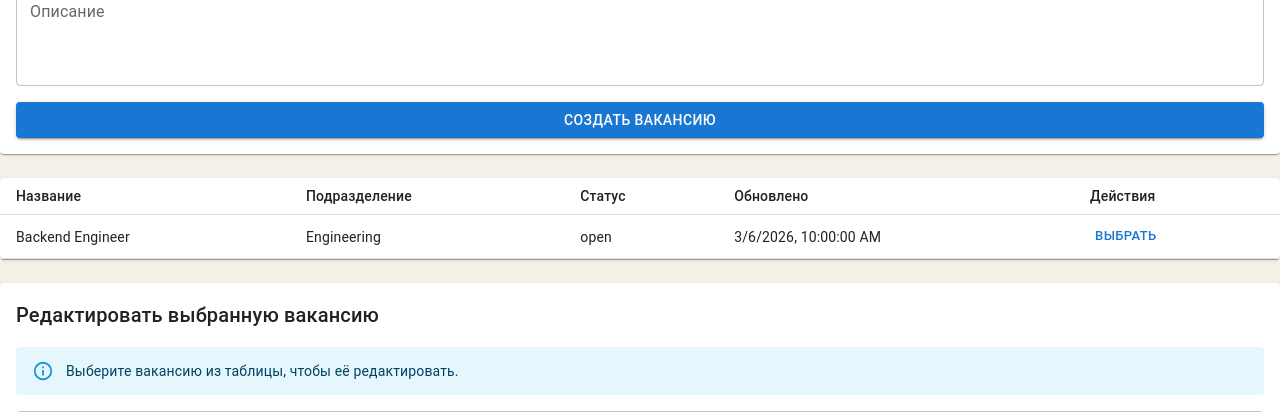
Test case: HrDashboardPage › renders localized 409 when cv analysis is not ready for scoring
(page scrolled)
Click the button "Выбрать".
click(1126, 237)  # box [1090,221,1162,252]
(page scrolled)
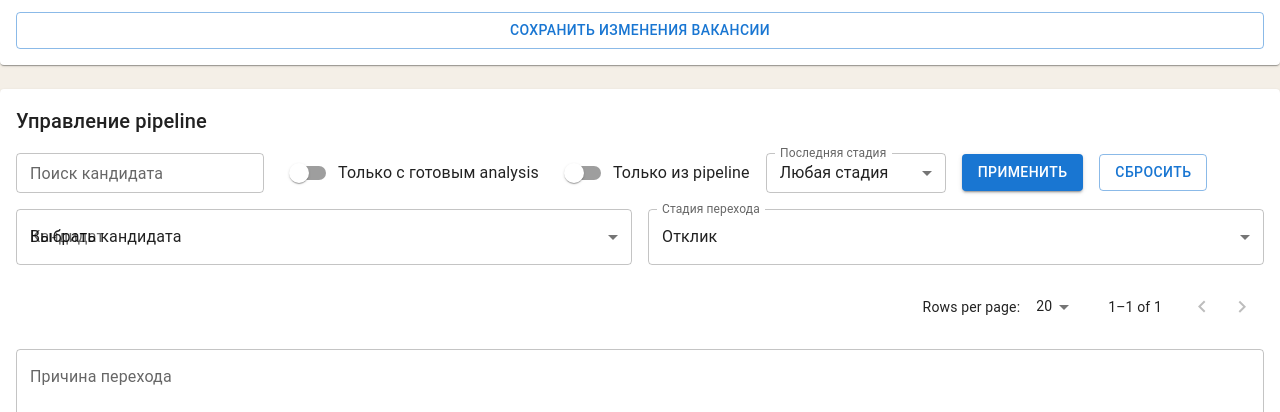
Select "John Doe (john@example.com)" in the dropdown labelled "Кандидат" at (324, 236), box [16,208,632,264]
(page scrolled)
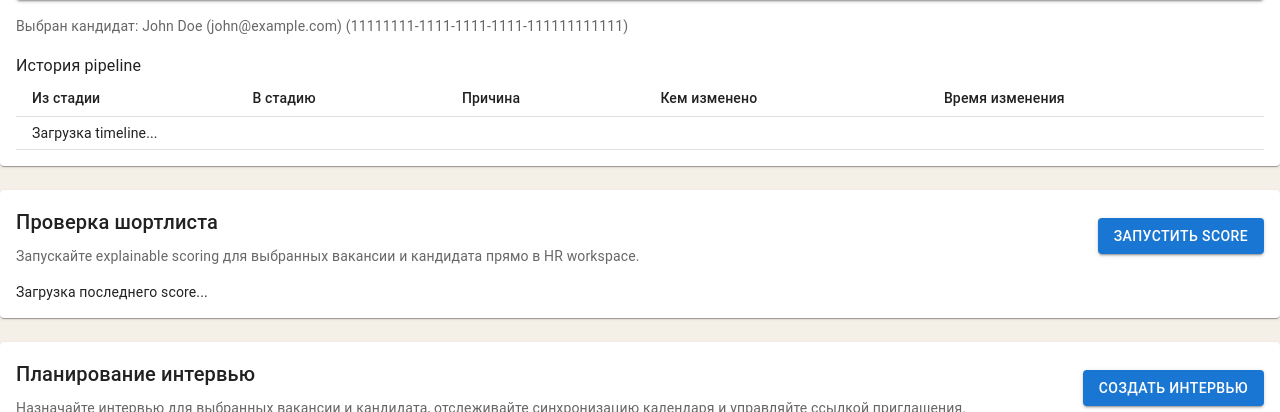
Click the button "Запустить score".
click(1181, 236)  # box [1098,218,1264,254]
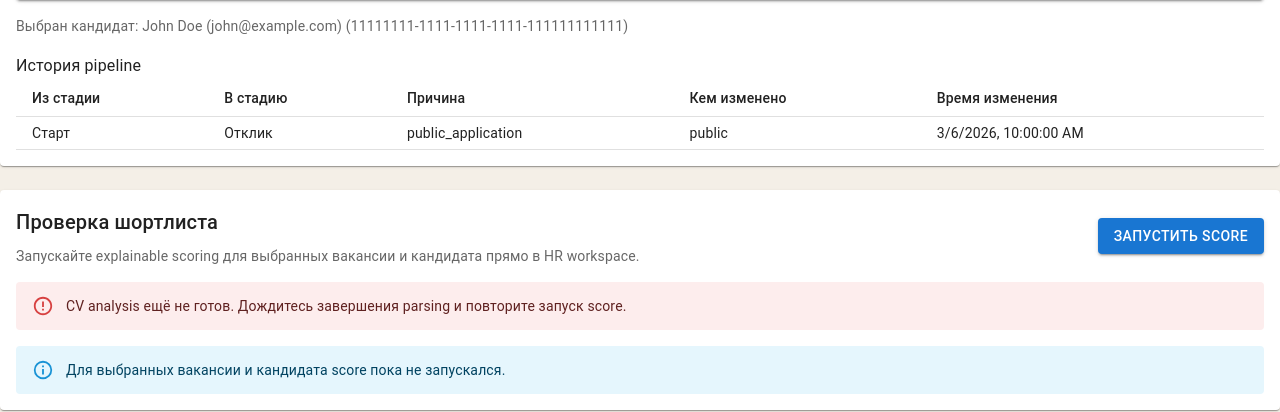
Expected: the text "CV analysis ещё не готов" is shown, [66,298,626,314]
